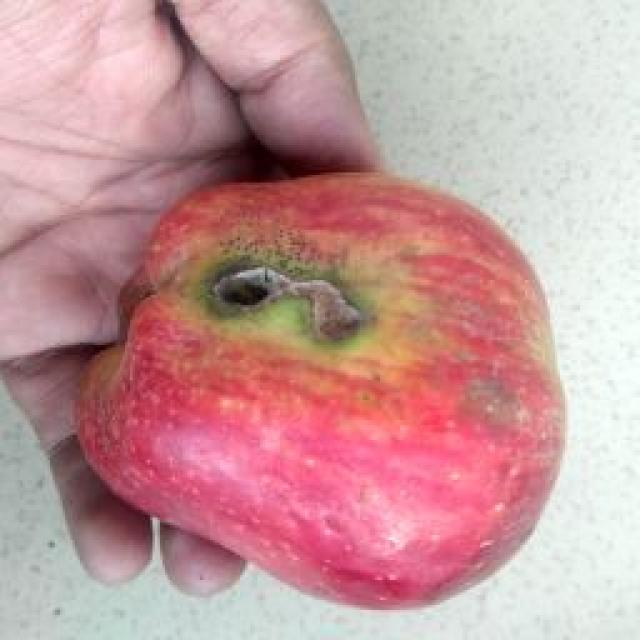Bad_Apple: (79, 174, 564, 607)
